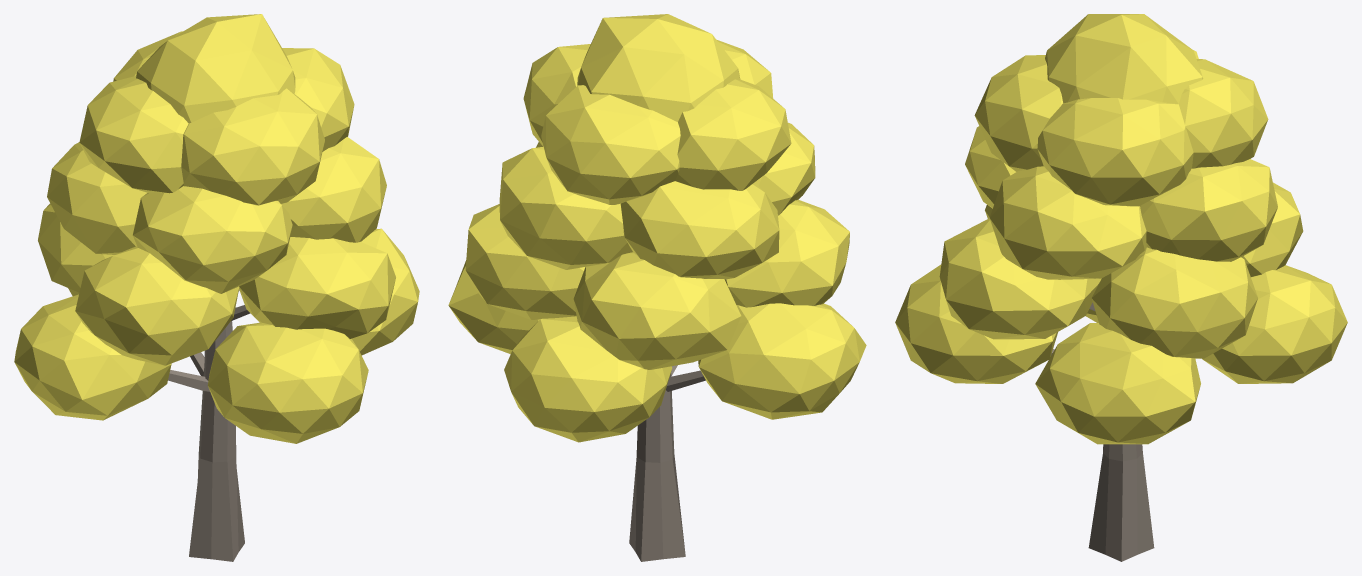
File: tree_ginkgo.glb
The picture shows the model from 3 angles, left to right: view 1: azimuth 30°, elevation 25°; view 2: azimuth 150°, elevation 25°; view 3: azimuth 270°, elevation 25°; orthographic projection.
Visible parts, largest first — view 1: tree_ginkgo; view 2: tree_ginkgo; view 3: tree_ginkgo.
Part boxes in pixels (box(x1,y1,x2,y2)): tree_ginkgo: box(14, 14, 419, 561); tree_ginkgo: box(448, 14, 866, 561); tree_ginkgo: box(895, 14, 1347, 561).
Bounding box in the file's own units: 5.85 × 7.8 × 6.
